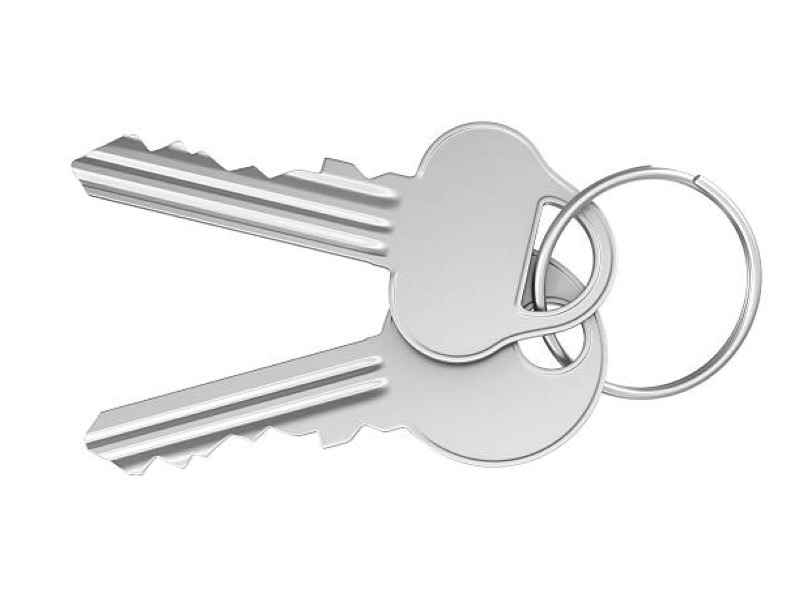key: (73, 118, 616, 481)
